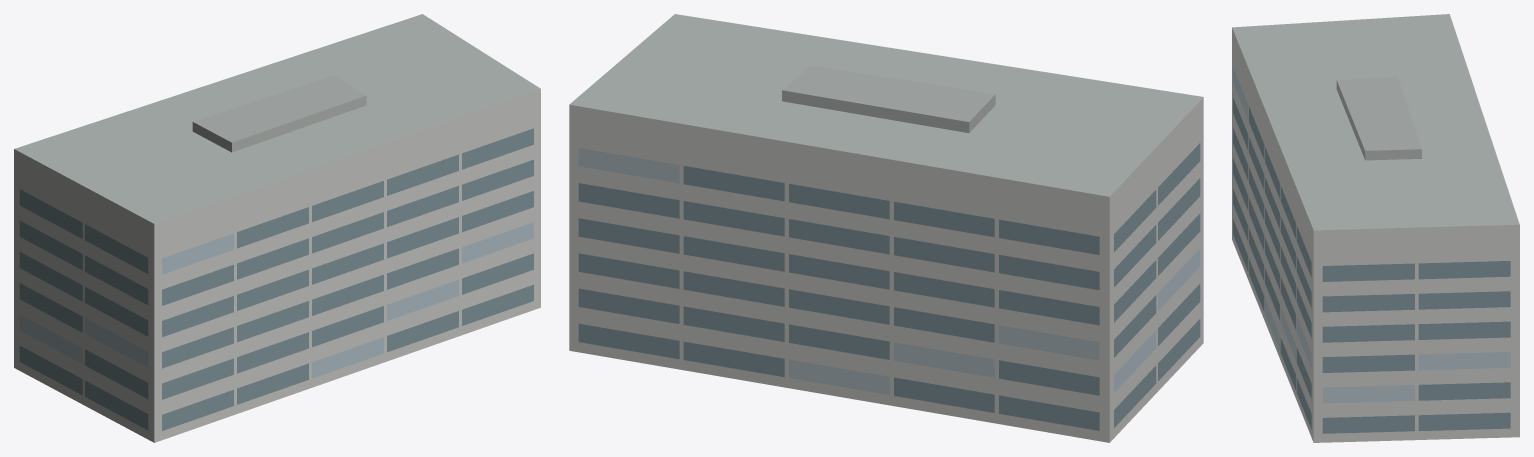
The model's file is named-apt-706abed5-8293-4919-ab56-70167af0d5f8.glb.
3 renders of one model, left to right at view 1: azimuth 30°, elevation 25°; view 2: azimuth 150°, elevation 25°; view 3: azimuth 270°, elevation 25°, orthographic. The views are drawn at different scales.
Visible parts, largest first — view 1: named-apt-706abed5-8293-4919-ab56-70167af0d5f8; view 2: named-apt-706abed5-8293-4919-ab56-70167af0d5f8; view 3: named-apt-706abed5-8293-4919-ab56-70167af0d5f8.
Part boxes in pixels (x1,y1,x2,y2): named-apt-706abed5-8293-4919-ab56-70167af0d5f8: (14,14,540,442); named-apt-706abed5-8293-4919-ab56-70167af0d5f8: (569,14,1203,442); named-apt-706abed5-8293-4919-ab56-70167af0d5f8: (1232,14,1519,442).
Bounding box in the file's own units: 46.62 × 22.31 × 26.19.
